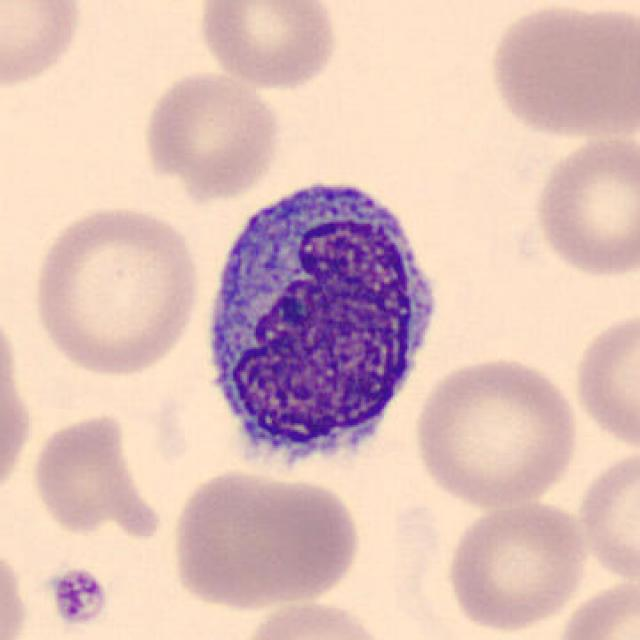Monocyte: (188, 159, 452, 488)
Platelets: (44, 562, 110, 630)
RBC: (27, 201, 205, 379), (166, 465, 364, 612), (409, 352, 583, 510), (484, 2, 636, 141), (441, 495, 590, 635), (138, 67, 284, 203), (26, 406, 170, 543), (528, 131, 640, 282), (194, 0, 343, 90), (569, 305, 640, 457), (572, 444, 638, 586), (0, 0, 87, 93), (0, 300, 36, 511), (233, 596, 395, 640), (551, 575, 638, 640), (0, 537, 30, 640)
